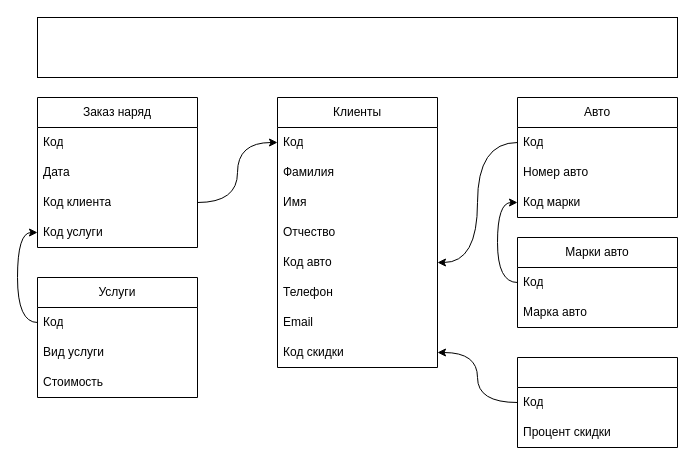
The diagram is 695 pixels wide and 465 high, and some of its shapes have lost their labels. The shapes that lost their labels are listed below. From the top down, each one's box as (x1, y1, x2, y2) in pixels, then its label:
(36, 16, 678, 78): Автомойка
(516, 356, 678, 448): Скидка
